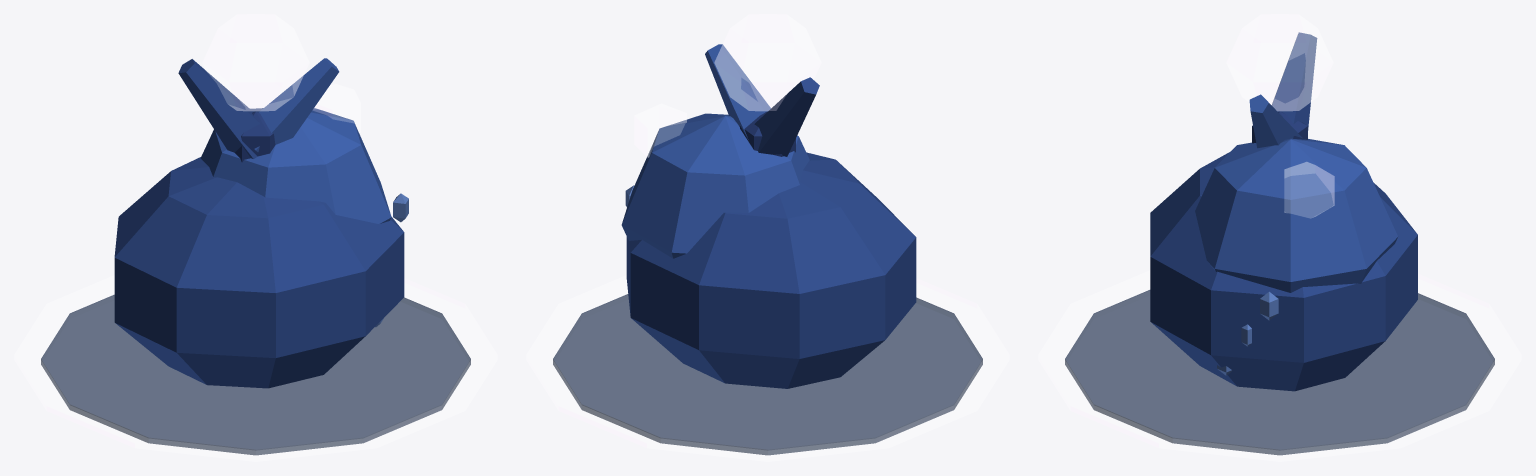
The model's file is prop_keep_bundle.glb.
3 views of the same model, side by side, from view 1: azimuth 30°, elevation 25°; view 2: azimuth 150°, elevation 25°; view 3: azimuth 270°, elevation 25° (orthographic).
Parts seen in each view (by area): view 1: prop_keep_bundle, Glow; view 2: prop_keep_bundle, Glow; view 3: prop_keep_bundle, Glow.
Part boxes in pixels (x1,y1,x2,y2): prop_keep_bundle: (41,58,470,455); Glow: (14,14,497,461); prop_keep_bundle: (553,44,982,455); Glow: (526,14,1009,461); prop_keep_bundle: (1065,32,1494,455); Glow: (1038,14,1521,461).
Bounding box in the file's own units: 0.9 × 0.736 × 0.9.
